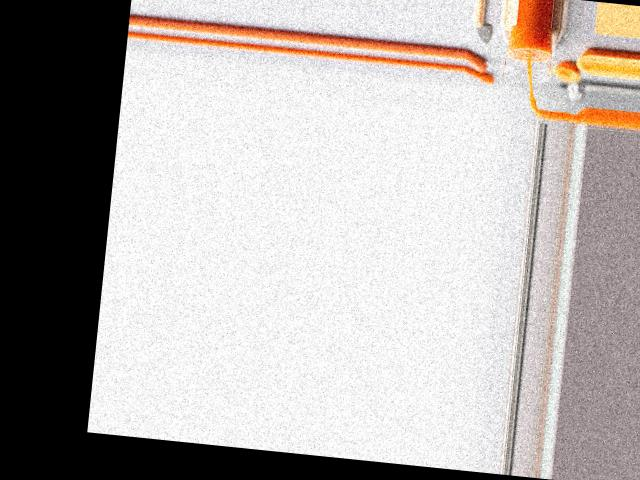carrot: (464, 47, 499, 83)
